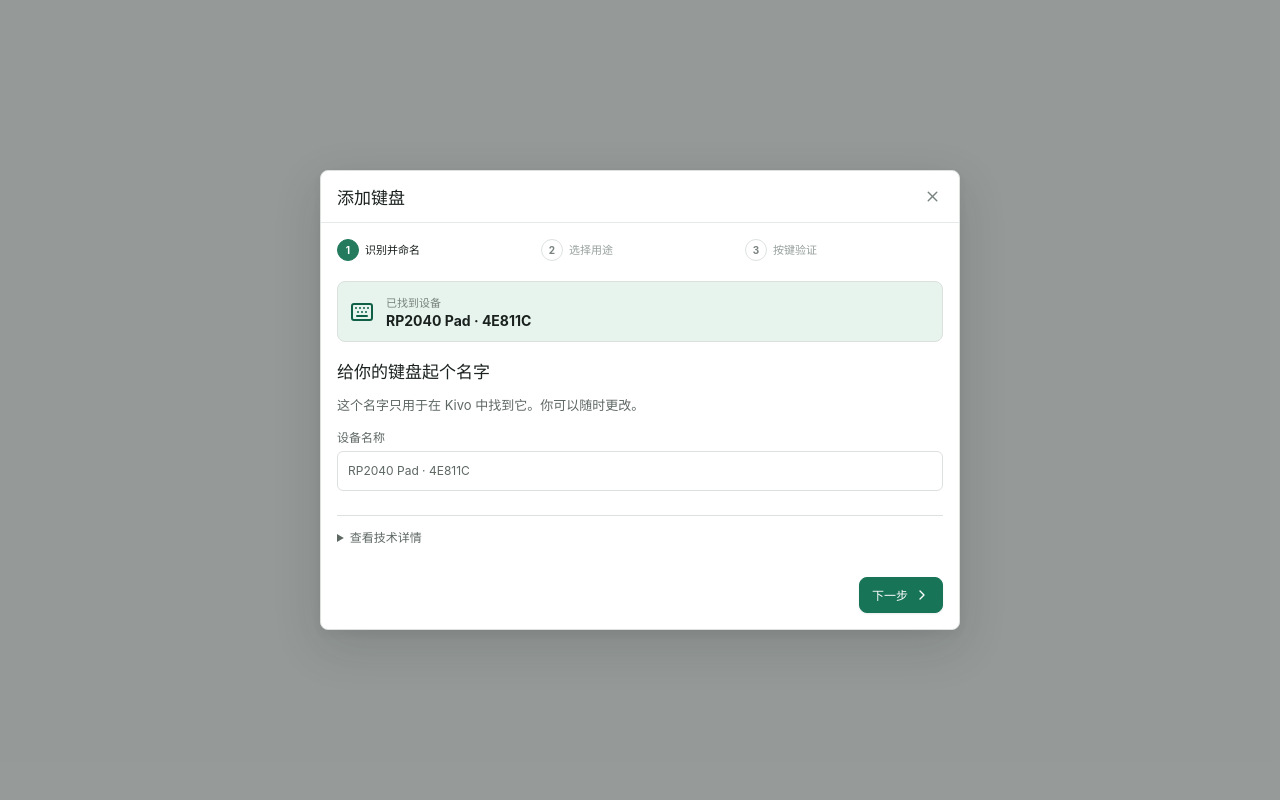
Test case: shows three onboarding steps, auto-selects compatible hardware, and completes one exact Device
The image size is (1280, 800).
Expected: the heading "给你的键盘起个名字" is shown, [337,362,490,382]
Click the button "下一步".
click(901, 595)  # box [859,577,943,613]
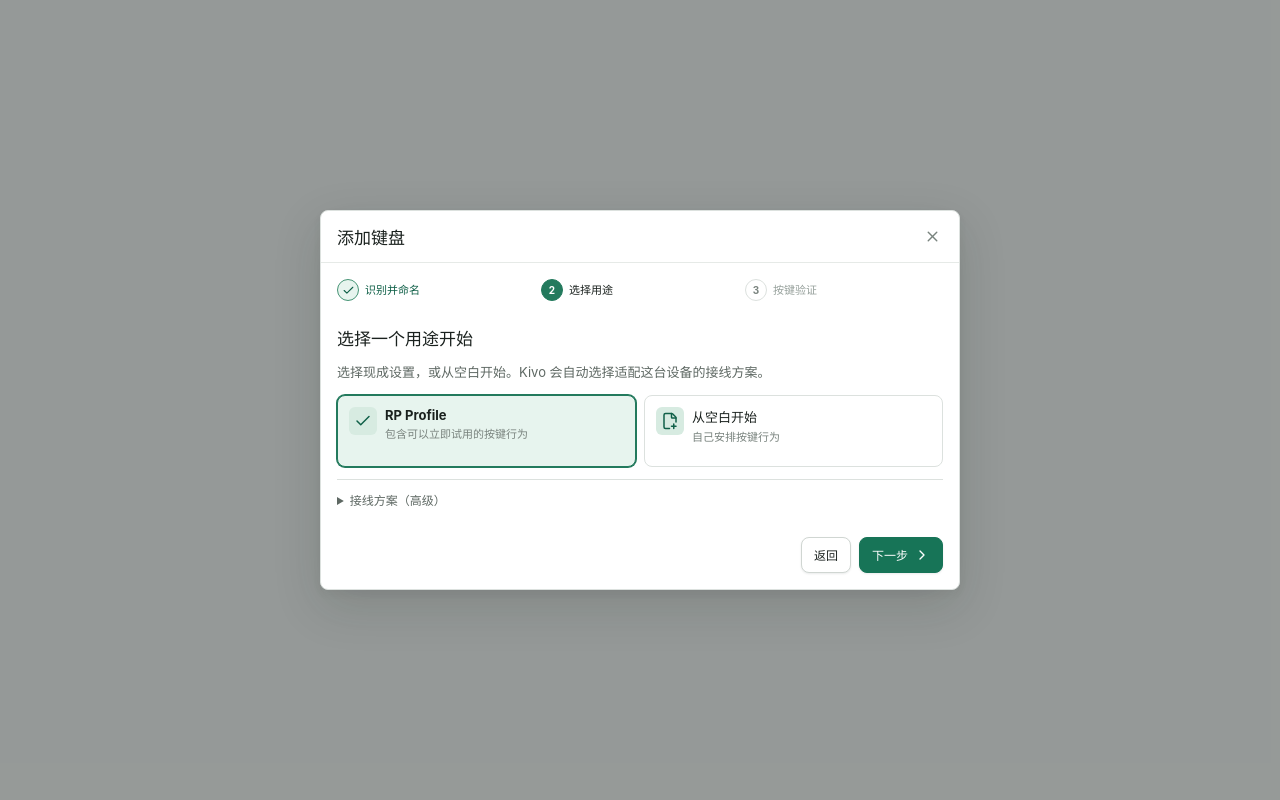
Expected: the text "已自动选择：RP Hardware" is not shown
Expected: the heading "选择一个用途开始" is shown, [337,329,473,349]
Click the heading "接线方案（高级）".
click(398, 500)  # box [350,493,446,508]
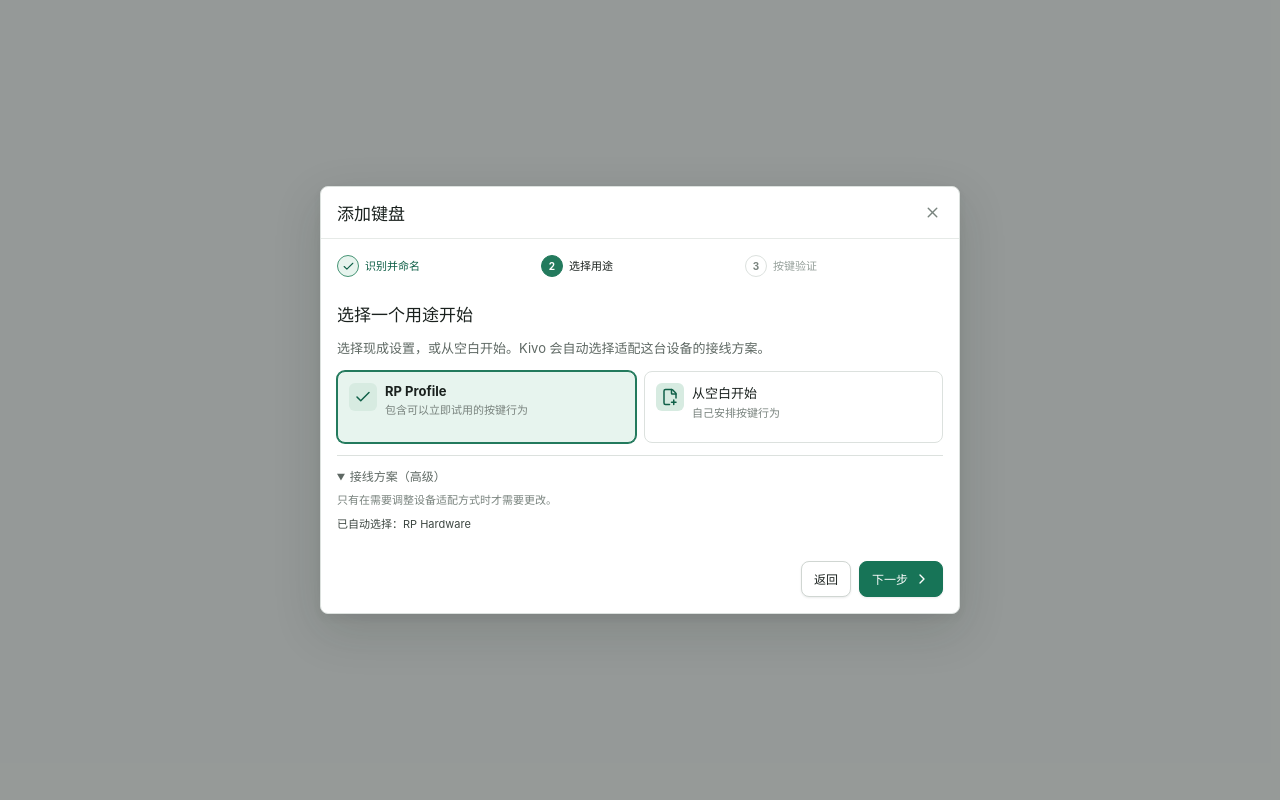
Expected: the text "已自动选择：RP Hardware" is shown, [337,517,471,531]
Click the button "下一步".
click(901, 578)  # box [859,560,943,596]
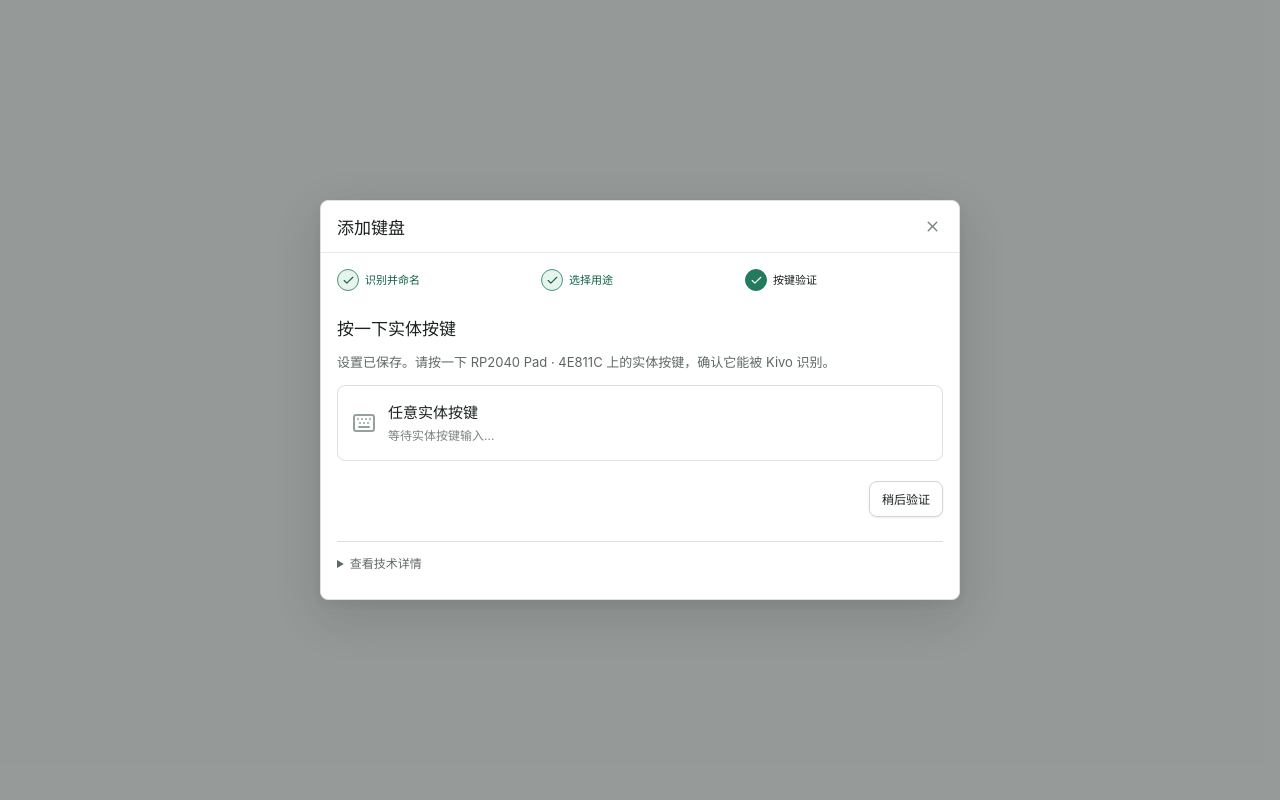
Expected: the heading "按一下实体按键" is shown, [337,319,456,339]
Expected: the text "等待实体按键输入…" is shown, [388,427,494,444]
